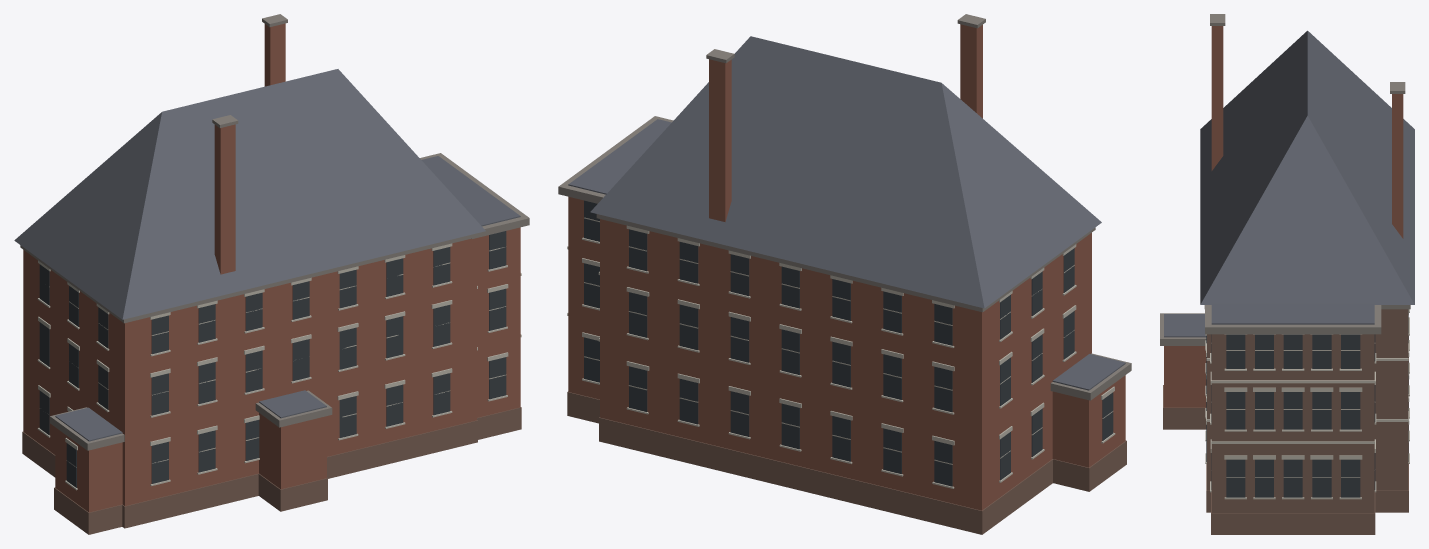
Rendered from hanford_house_2008_calumet__draft_1904.glb.
3 views of the same model, side by side, from view 1: azimuth 30°, elevation 25°; view 2: azimuth 150°, elevation 25°; view 3: azimuth 270°, elevation 25° (orthographic). The views are drawn at different scales.
Parts seen in each view (by area): view 1: hanford_house_2008_calumet__draft_1904; view 2: hanford_house_2008_calumet__draft_1904; view 3: hanford_house_2008_calumet__draft_1904.
Part boxes in pixels (bbox=[...]): hanford_house_2008_calumet__draft_1904: bbox=[14, 14, 529, 534]; hanford_house_2008_calumet__draft_1904: bbox=[558, 14, 1131, 534]; hanford_house_2008_calumet__draft_1904: bbox=[1160, 14, 1414, 534].
Bounding box in the file's own units: 26.3 × 21.58 × 13.3.
